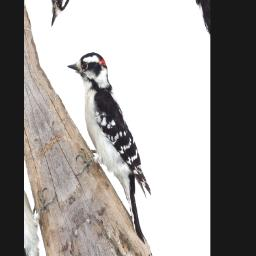Woodpecker: (41, 33, 170, 256)
